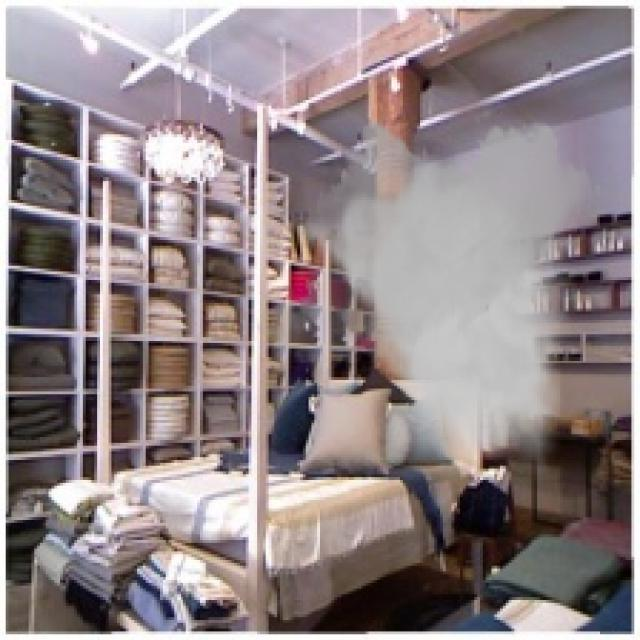Smoke: (254, 111, 603, 480)
